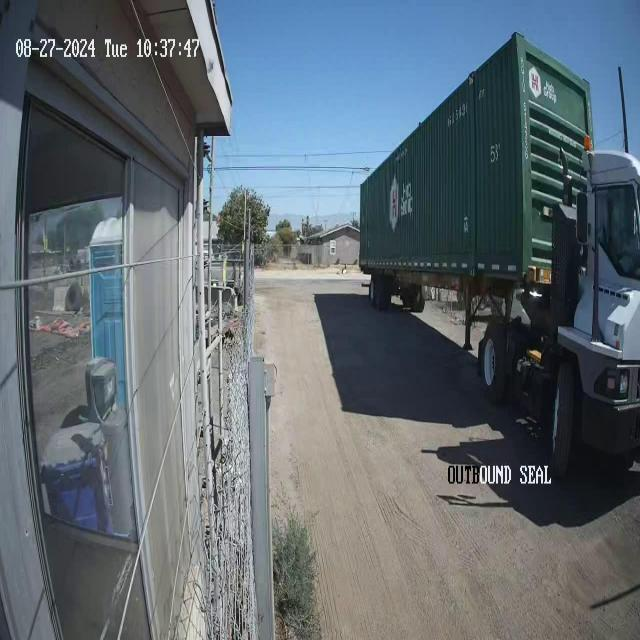TRUCK_CONTAINER: (357, 29, 640, 478)
